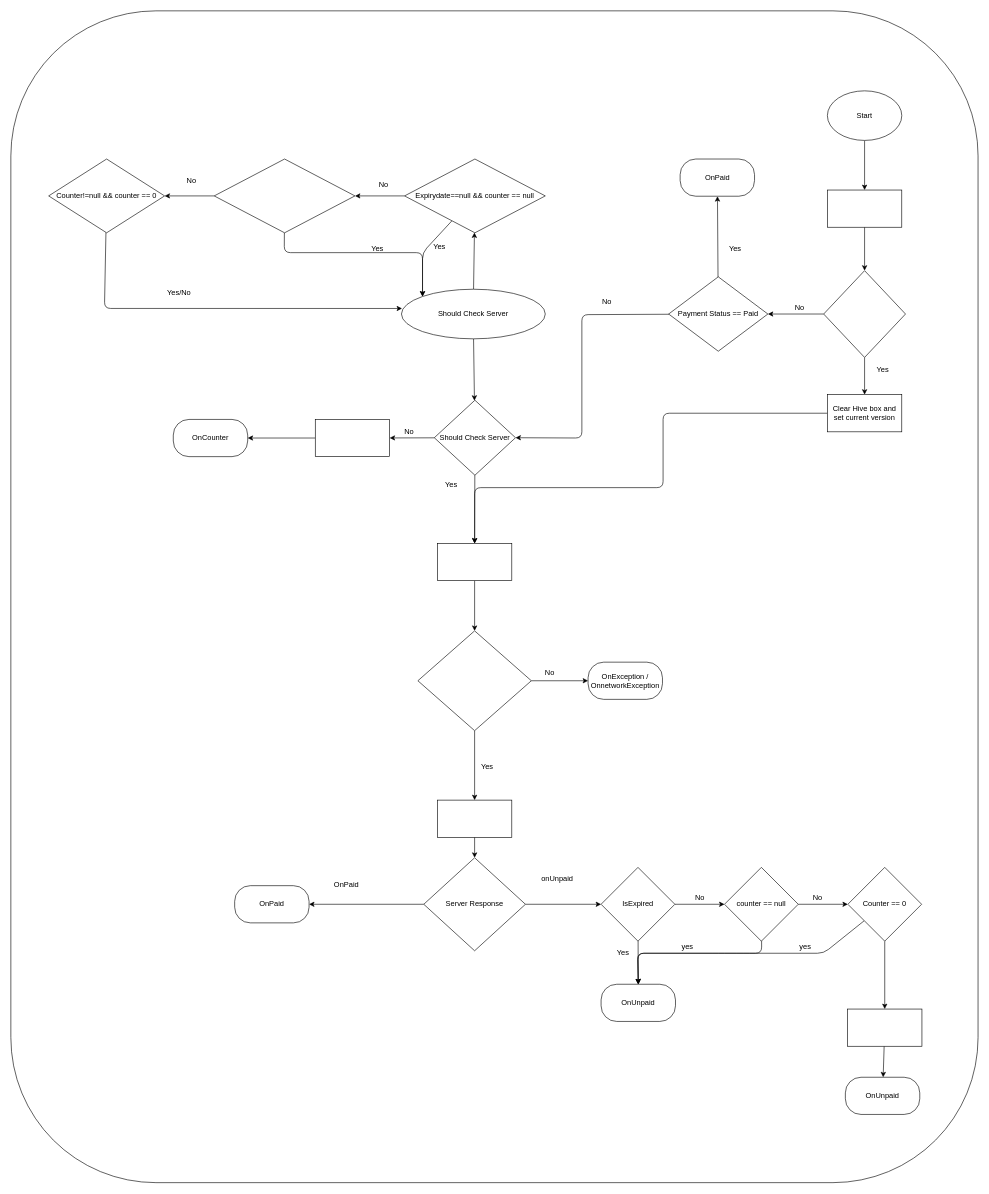
This 989x1194 diagram has some shape labels left out. The shapes that lost their labels are listed below. From the top down, each one's centre as x and y in pixels, then its label:
At point 284,195: "expiry!=null && IsExpired".
At point 864,208: "Check Version In Hive".
At point 864,313: "version < current version".
At point 352,438: "Decrement Counter if counter > 0".
At point 474,562: "Check Server".
At point 474,680: "Request And Modelling Sucessfull?".
At point 474,818: "Update Hive".
At point 884,1027: "Decrement Counter".
